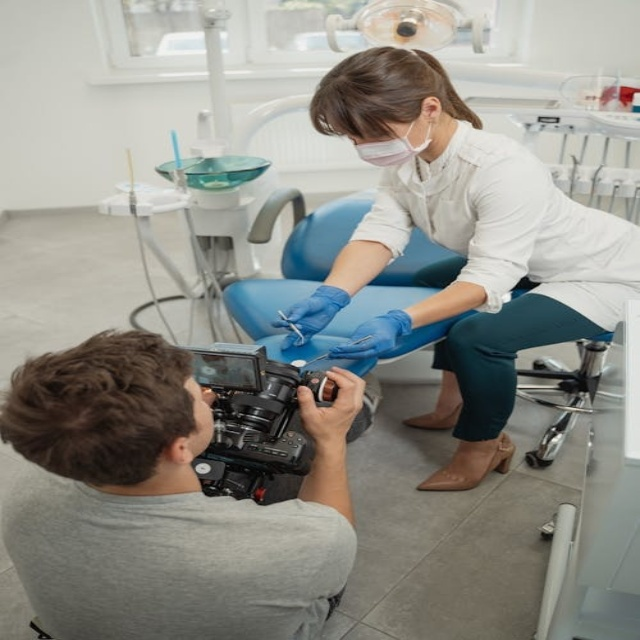Guantes: (269, 285, 352, 353), (326, 310, 413, 360)
Mascara: (351, 113, 431, 167)
Sin_guantes: (294, 365, 369, 443)
